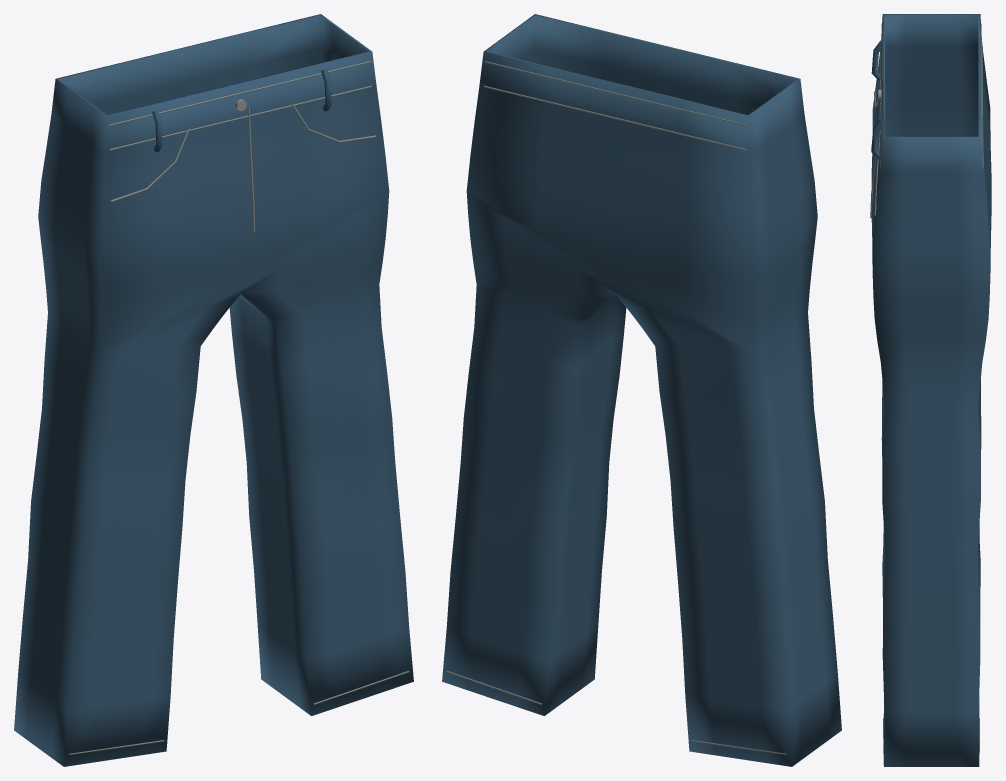
Rendered from A-NEW-20261027-TROUSERS-001_LOD1_R1.glb.
3 views of the same model, side by side, from view 1: azimuth 30°, elevation 25°; view 2: azimuth 150°, elevation 25°; view 3: azimuth 270°, elevation 25° (orthographic). The views are drawn at different scales.
Parts seen in each view (by area): view 1: complete hollow trousers cloth; view 2: complete hollow trousers cloth; view 3: complete hollow trousers cloth, front belt loop 1, front belt loop -1.
Boxes of the visible parts, x1=… form: complete hollow trousers cloth: x1=14, y1=14, x2=413, y2=766; complete hollow trousers cloth: x1=442, y1=14, x2=841, y2=766; complete hollow trousers cloth: x1=871, y1=14, x2=991, y2=766; front belt loop 1: x1=871, y1=119, x2=882, y2=159; front belt loop -1: x1=871, y1=40, x2=882, y2=80.
Bounding box in the file's own units: 0.58 × 1.03 × 0.1831.
